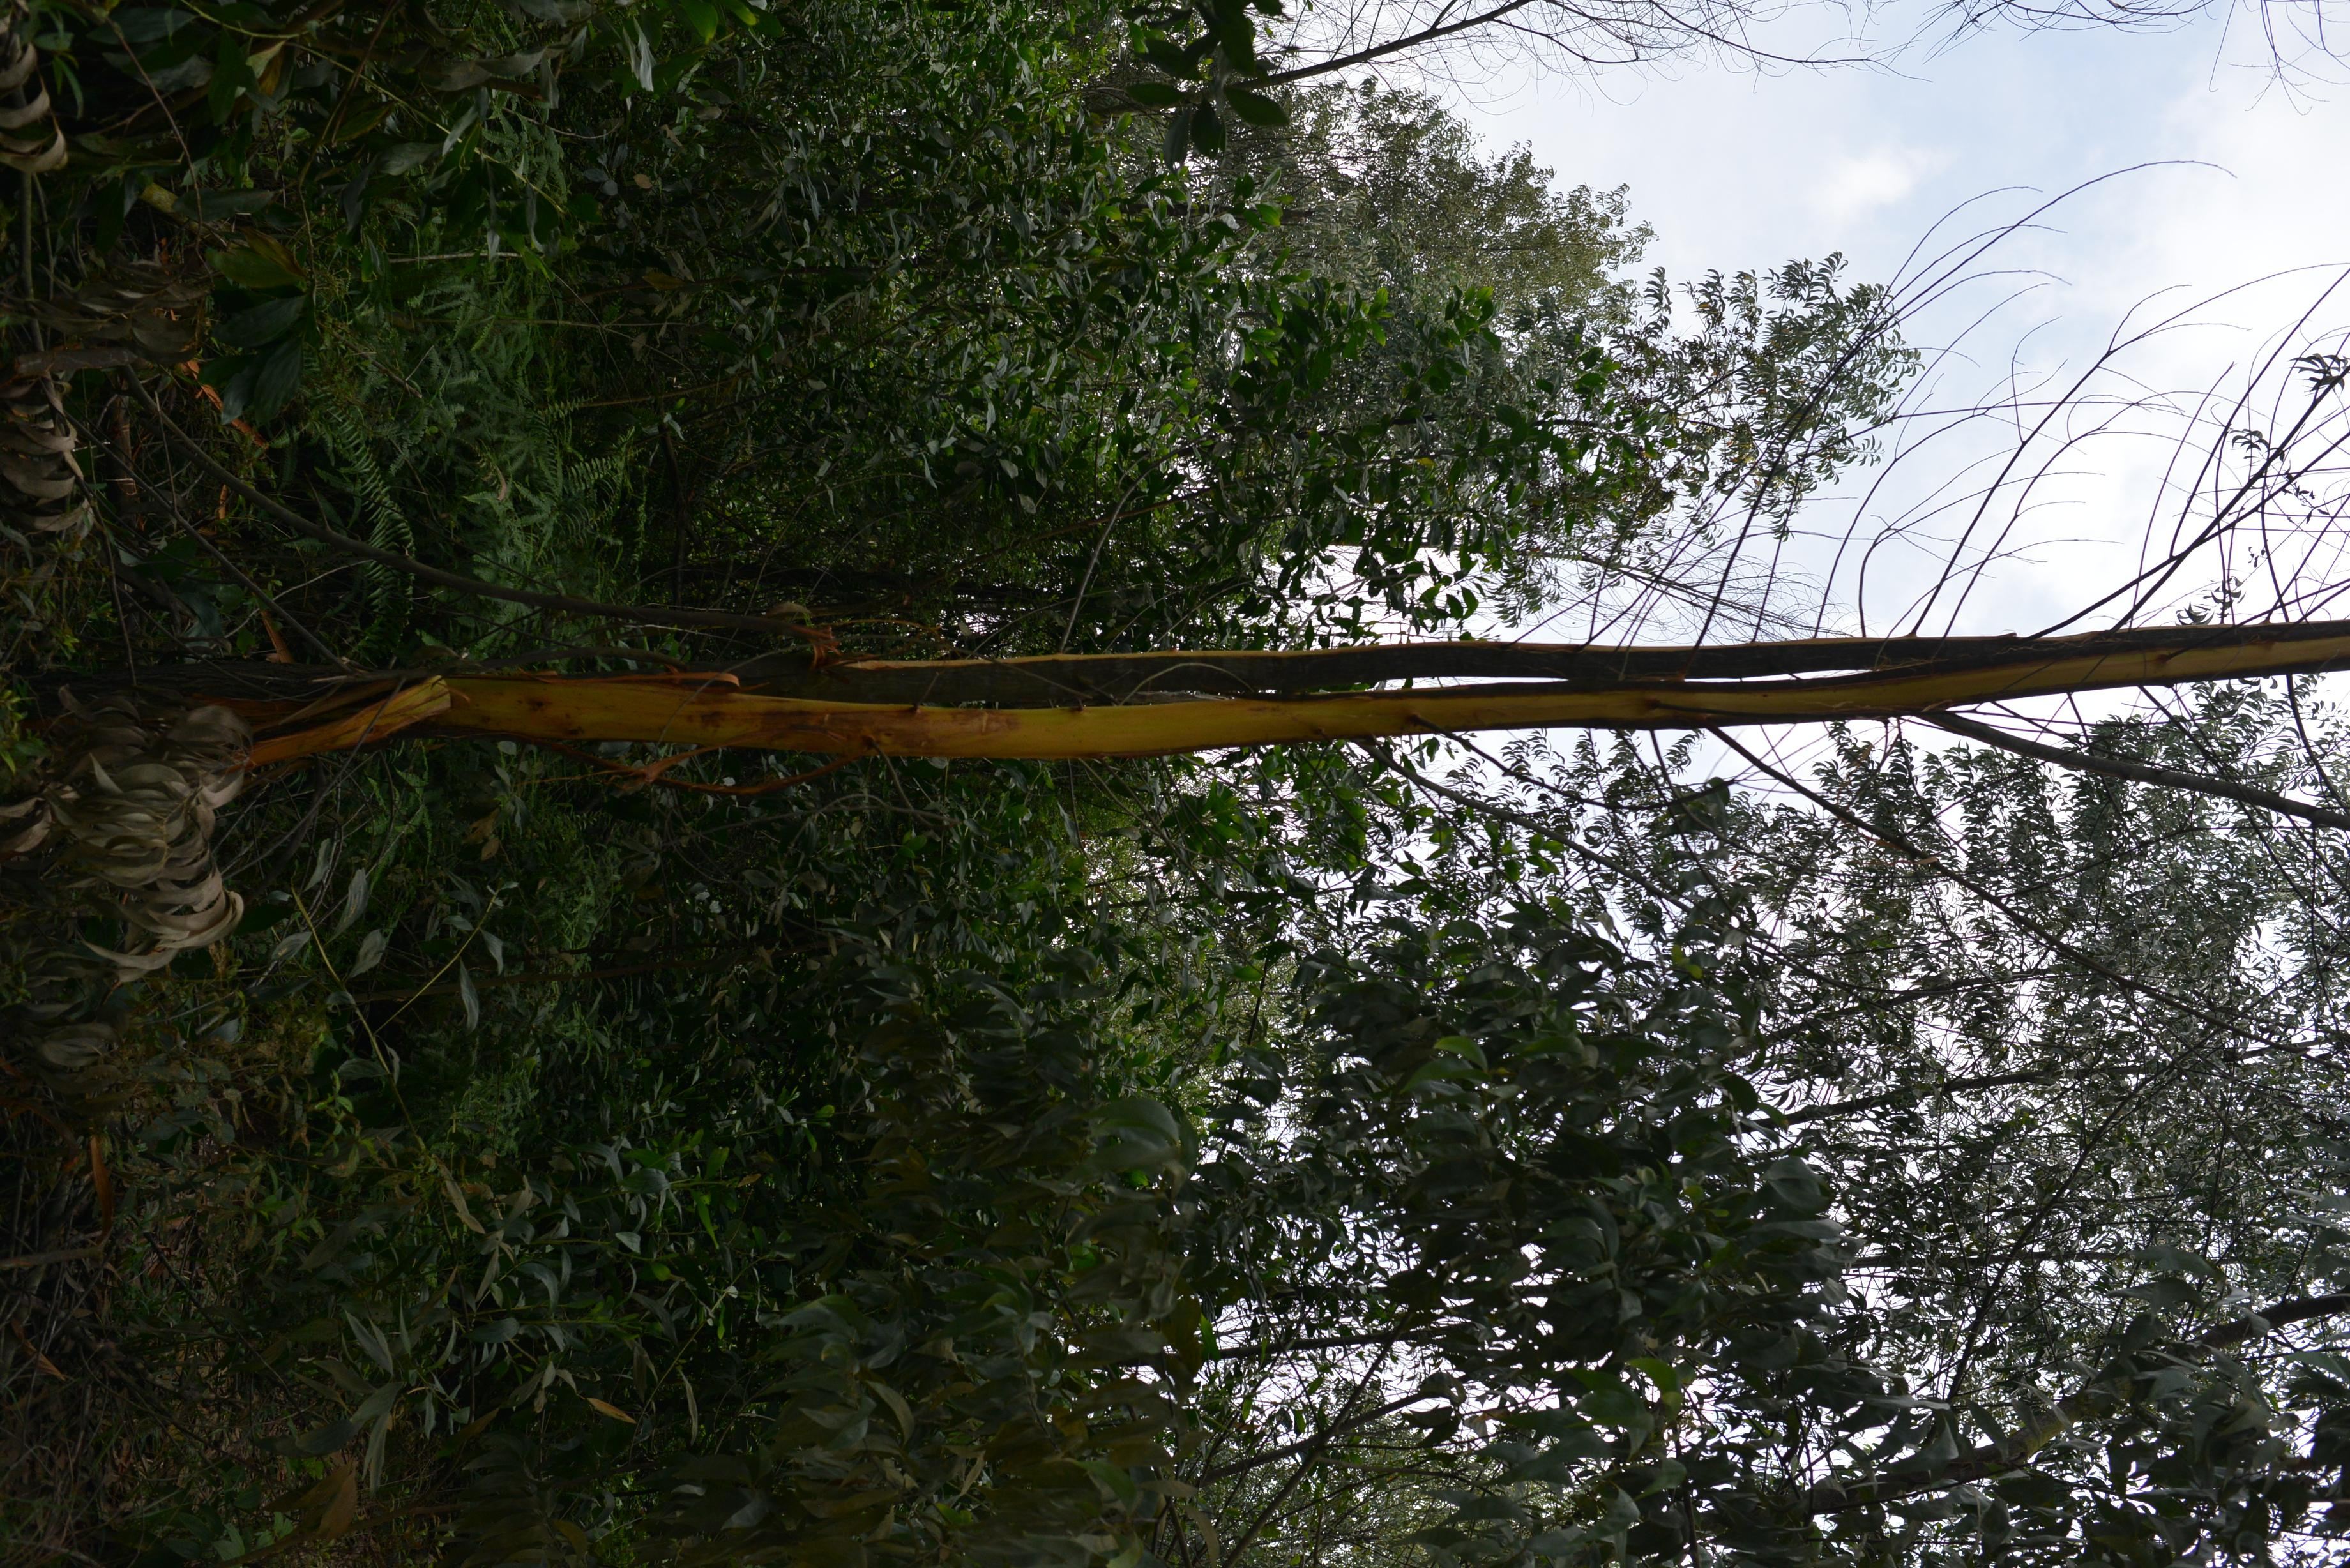Mammals Attack: (441, 625, 2350, 761)
